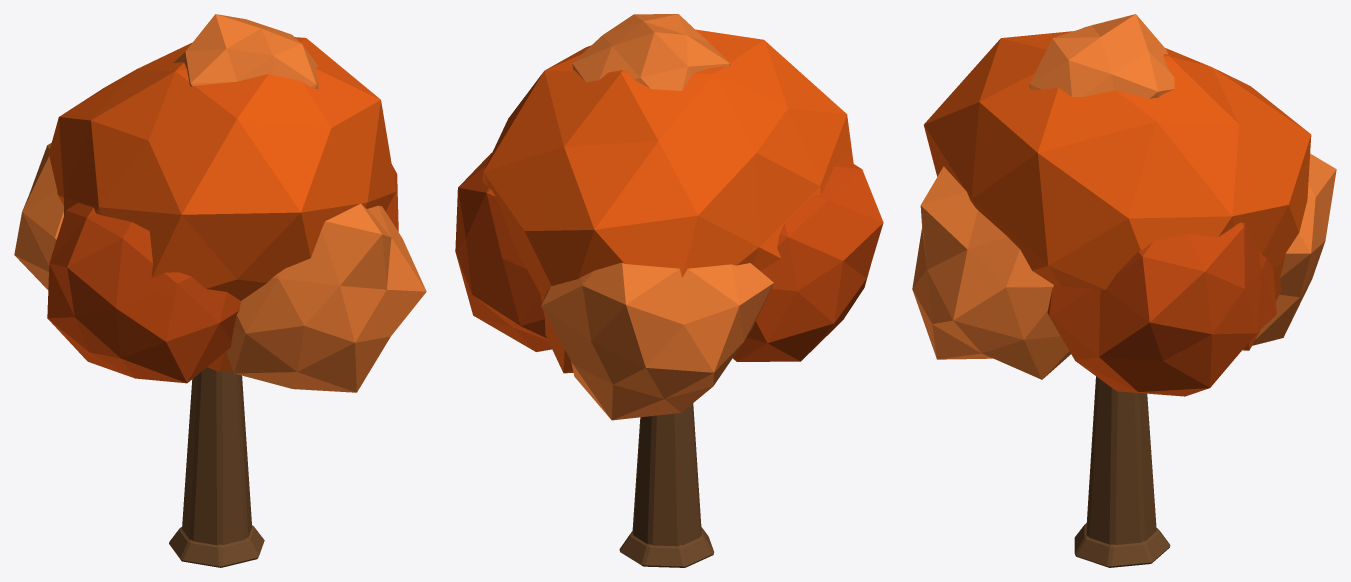
File: tree_autumn_a.glb
3 views of the same model, side by side, from view 1: azimuth 30°, elevation 25°; view 2: azimuth 150°, elevation 25°; view 3: azimuth 270°, elevation 25° (orthographic). The views are drawn at different scales.
Parts seen in each view (by area): view 1: tree_autumn_a; view 2: tree_autumn_a; view 3: tree_autumn_a.
Boxes of the visible parts, x1=… form: tree_autumn_a: x1=14, y1=14, x2=426, y2=567; tree_autumn_a: x1=455, y1=14, x2=883, y2=567; tree_autumn_a: x1=912, y1=14, x2=1336, y2=567.
Bounding box in the file's own units: 5.28 × 7.02 × 5.04.
